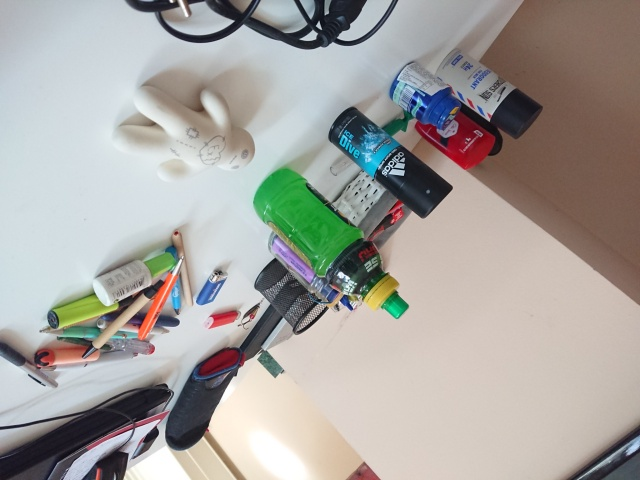Vindi Iso Sport Lemon-Grapefruit 500mL: (250, 165, 411, 322)
